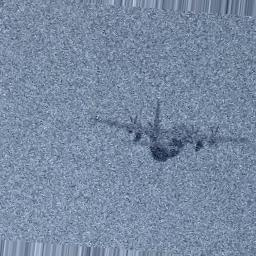Airplane: (96, 99, 250, 161)
